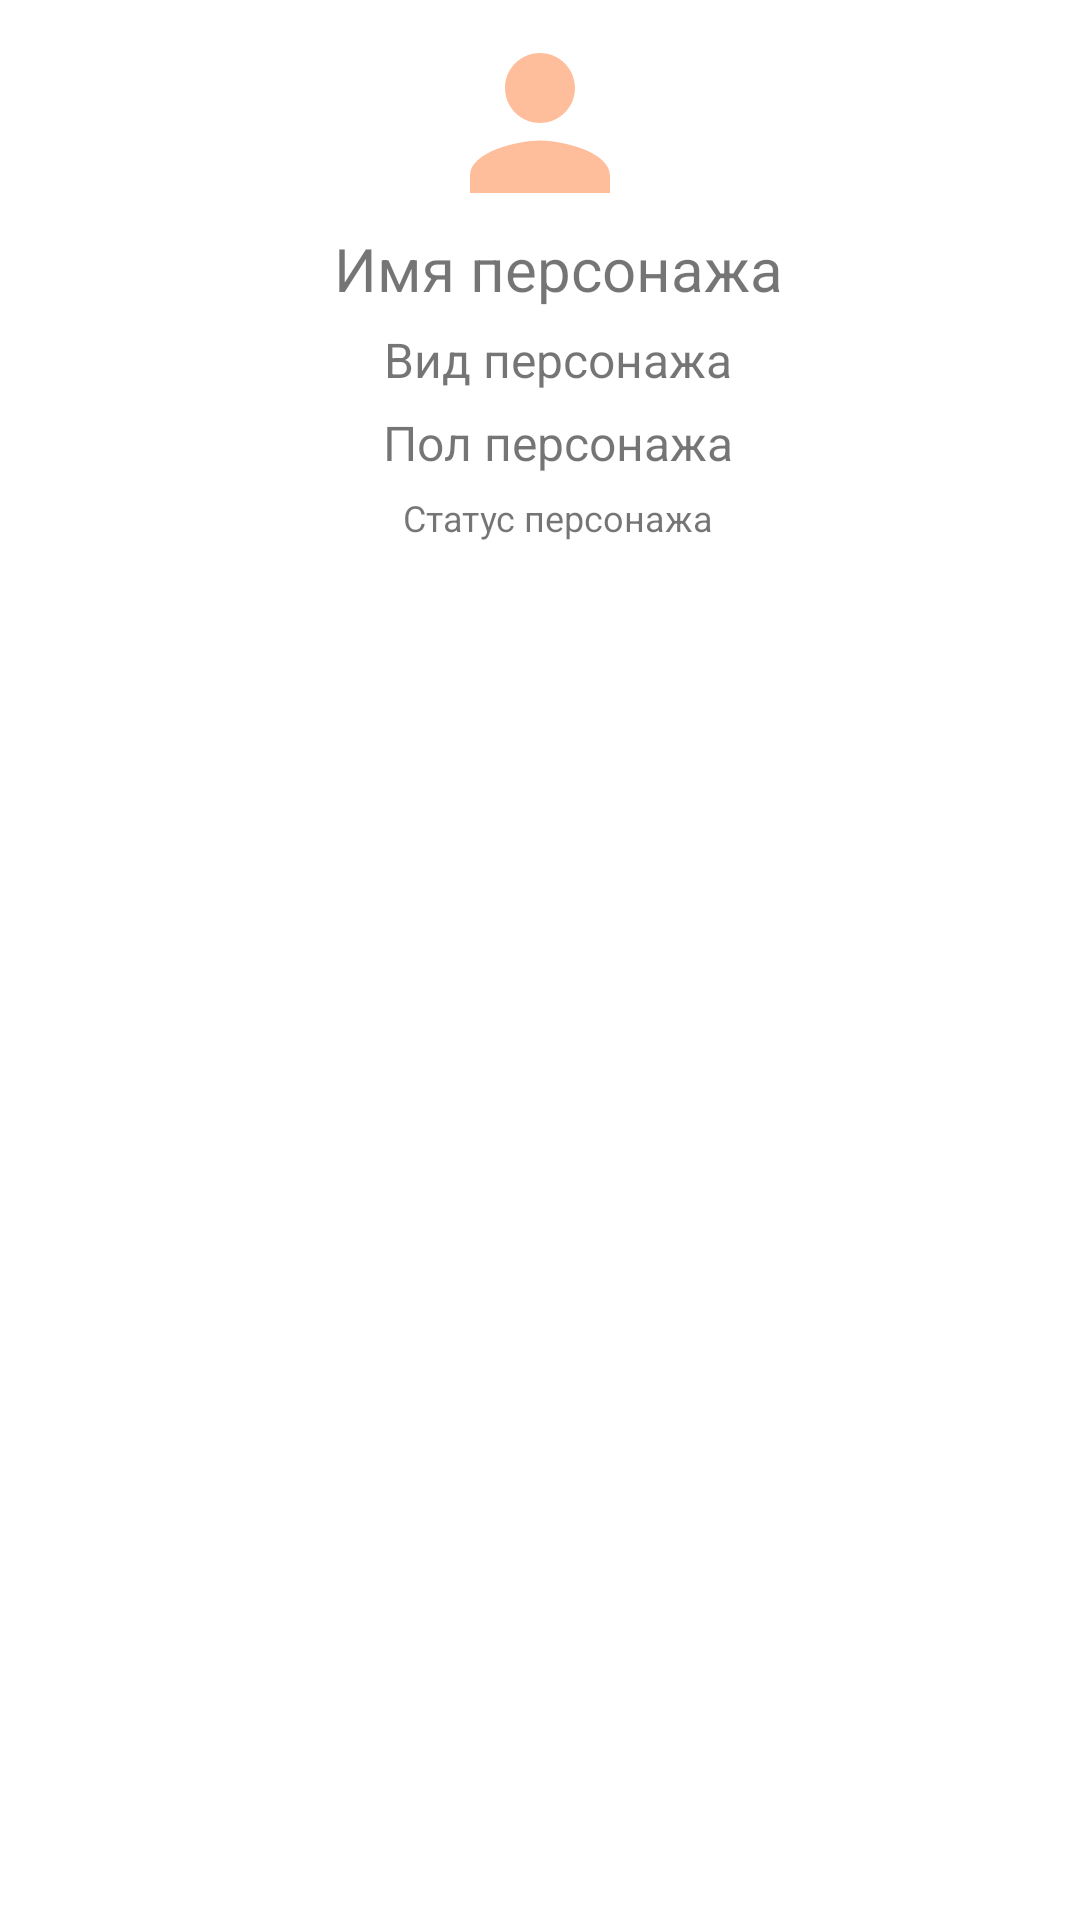

Icons on this 1080 x 1920 Android screen, each with the point to tap as point (x, y):
person: point (540, 123)
